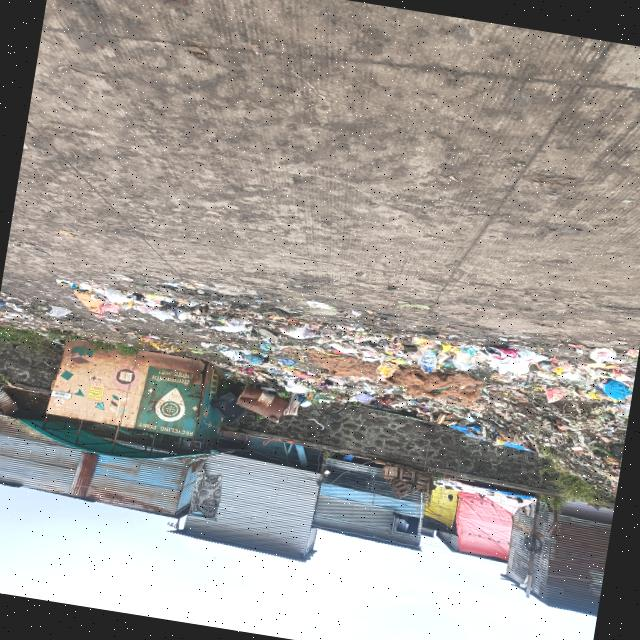garbage: (238, 306, 546, 451), (537, 342, 638, 497), (62, 272, 258, 342)
